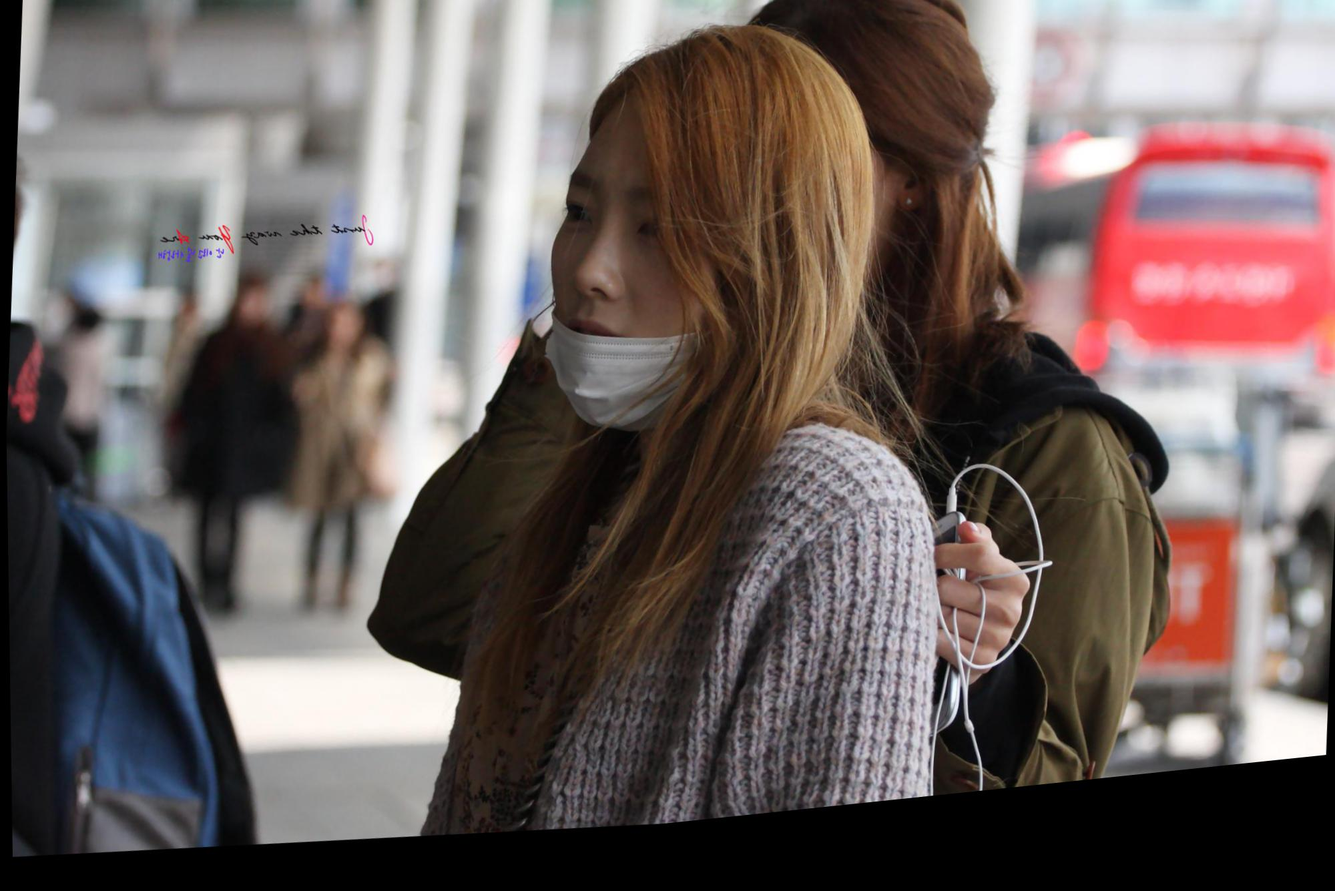WRONG: (533, 160, 748, 433)
